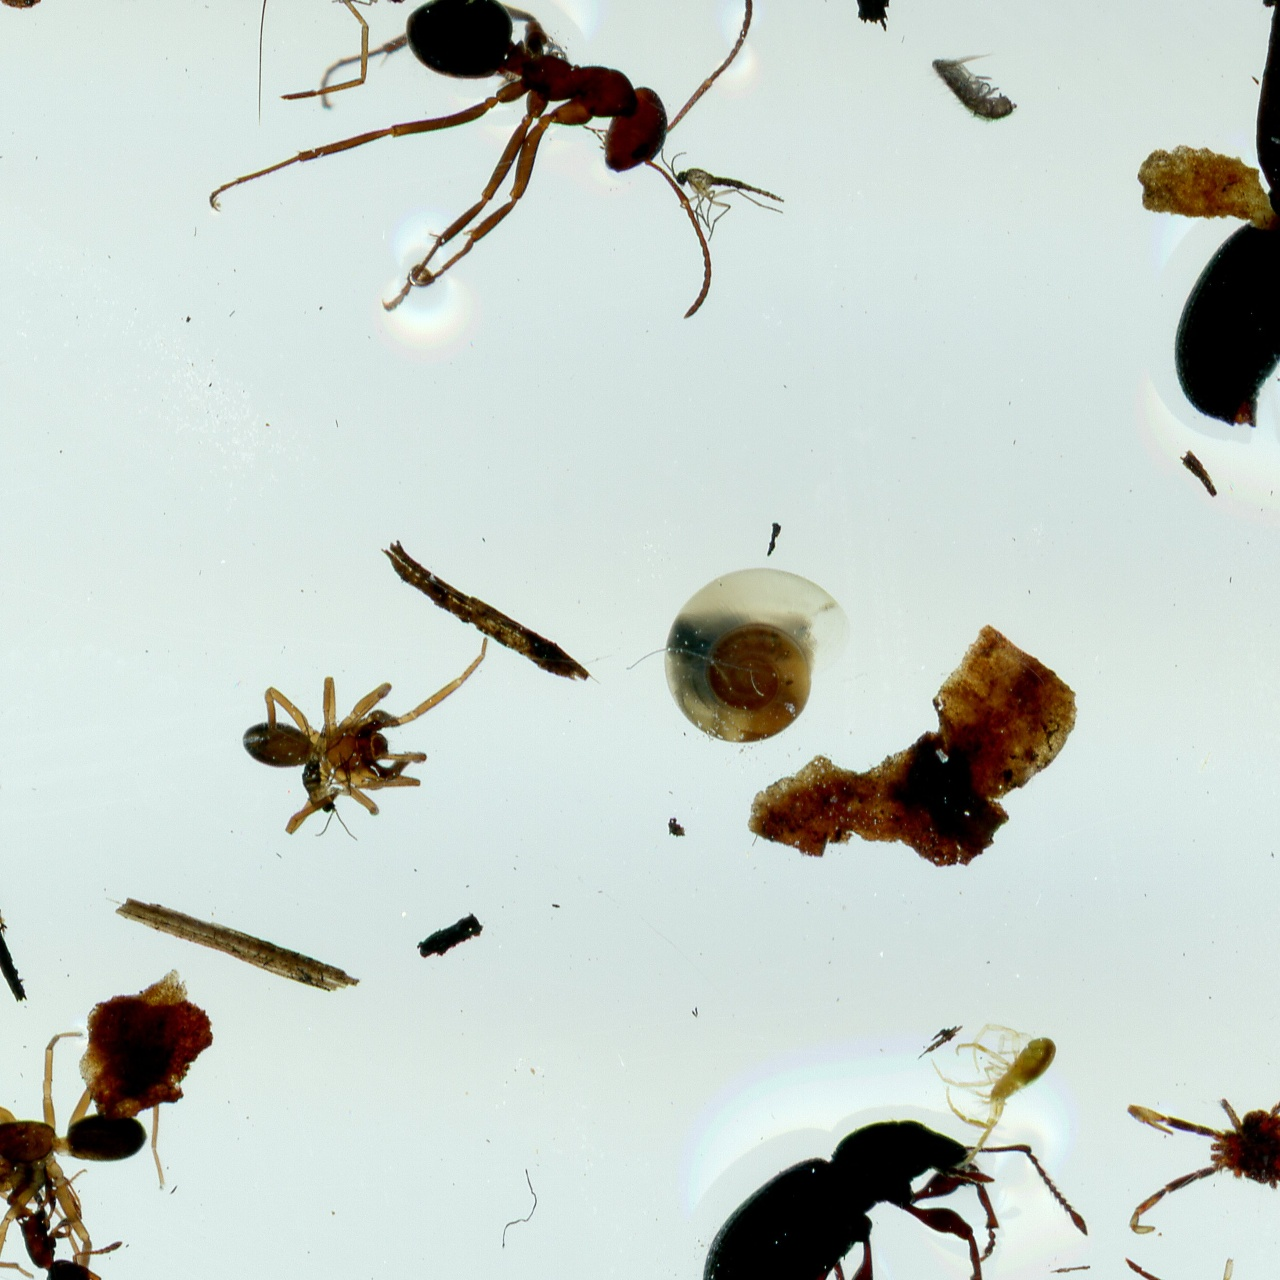arthropod: (206, 0, 754, 320), (653, 1034, 1135, 1280), (1125, 49, 1280, 508), (240, 633, 491, 837), (0, 1026, 166, 1280), (1122, 1007, 1280, 1240), (885, 987, 1067, 1185), (662, 567, 852, 744), (0, 1142, 170, 1280), (655, 145, 788, 245), (295, 717, 366, 845), (927, 49, 1020, 123), (79, 0, 200, 8)
